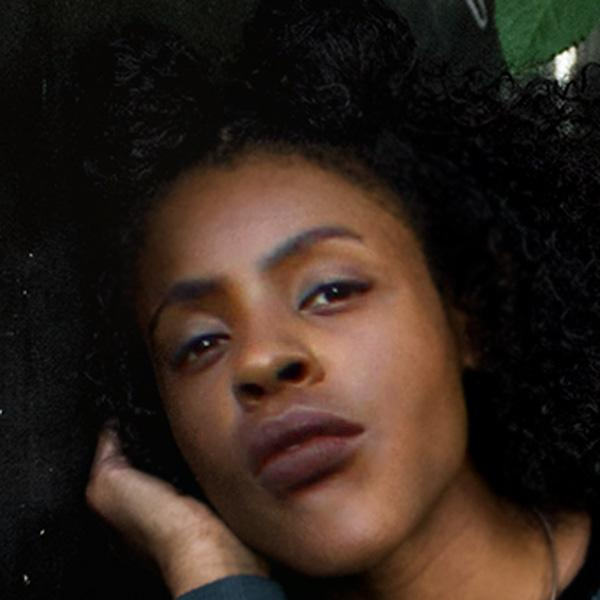Eyes: (289, 253, 385, 323), (159, 305, 242, 381)
